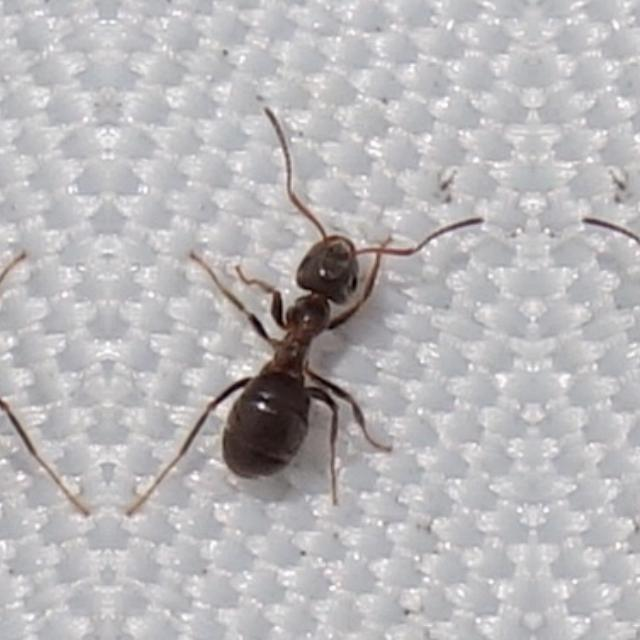Lasius: (184, 182, 418, 504)
